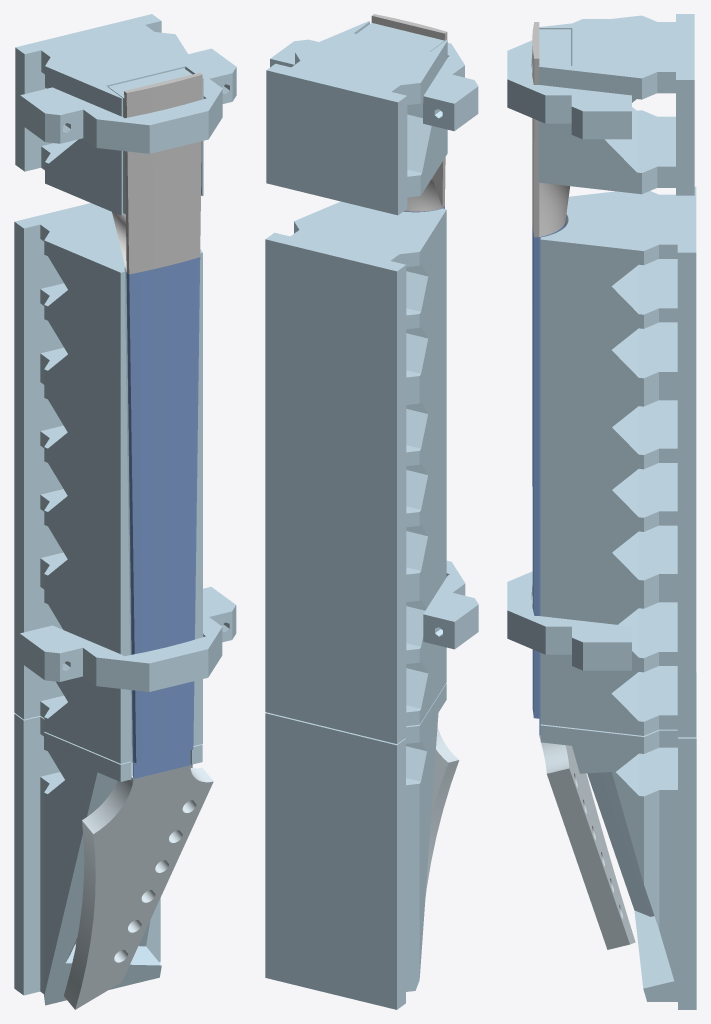
File: Assembly.gltf
3 renders of one model, left to right at view 1: azimuth 30°, elevation 25°; view 2: azimuth 150°, elevation 25°; view 3: azimuth 270°, elevation 25°, orthographic. The views are drawn at different scales.
Parts seen in each view (by area): view 1: FingerBoard2, CenterSupportC, NuttSupport, CenterSupportB, Part 1 (×2), Head, BottomSuport, CenterSupportA, FingerBoard1, Neck2, Neck1; view 2: NuttSupport, CenterSupportC, CenterSupportB, BottomSuport, CenterSupportA, Part 1 (×2), Head, FingerBoard1, Neck1, Part 5; view 3: CenterSupportC, CenterSupportB, NuttSupport, BottomSuport, CenterSupportA, Part 1 (×2), Head, FingerBoard2, Part 5, FingerBoard1, Neck1, Neck2.
Boxes of the visible parts, x1,y1,x2,y2 form: FingerBoard2: (126,257,200,763); CenterSupportC: (14,365,202,620); NuttSupport: (14,713,202,1005); CenterSupportB: (14,203,202,415); Part 1 (×2): (19,48,236,691); Head: (64,762,213,1009); BottomSuport: (15,14,203,215); CenterSupportA: (14,569,202,763); FingerBoard1: (124,72,202,274); Neck2: (126,272,190,778); Neck1: (108,68,192,214); NuttSupport: (265,683,446,1009); CenterSupportC: (265,348,446,606); CenterSupportB: (265,201,446,408); BottomSuport: (266,21,447,215); CenterSupportA: (265,545,446,743); Part 1 (×2): (270,39,478,649); Head: (425,727,459,895); FingerBoard1: (371,14,447,207); Neck1: (357,23,444,51); Part 5: (404,177,442,211); CenterSupportC: (540,381,696,595); CenterSupportB: (540,186,696,393); NuttSupport: (540,673,696,1009); BottomSuport: (538,14,694,195); CenterSupportA: (540,583,696,737); Part 1 (×2): (507,19,631,670); Head: (539,735,635,949); FingerBoard2: (532,226,539,718); Part 5: (539,182,569,236); FingerBoard1: (532,22,539,237); Neck1: (539,29,570,65); Neck2: (539,221,565,735).
Bounding box in the file's own units: 0.1402 × 0.6625 × 0.1215.
